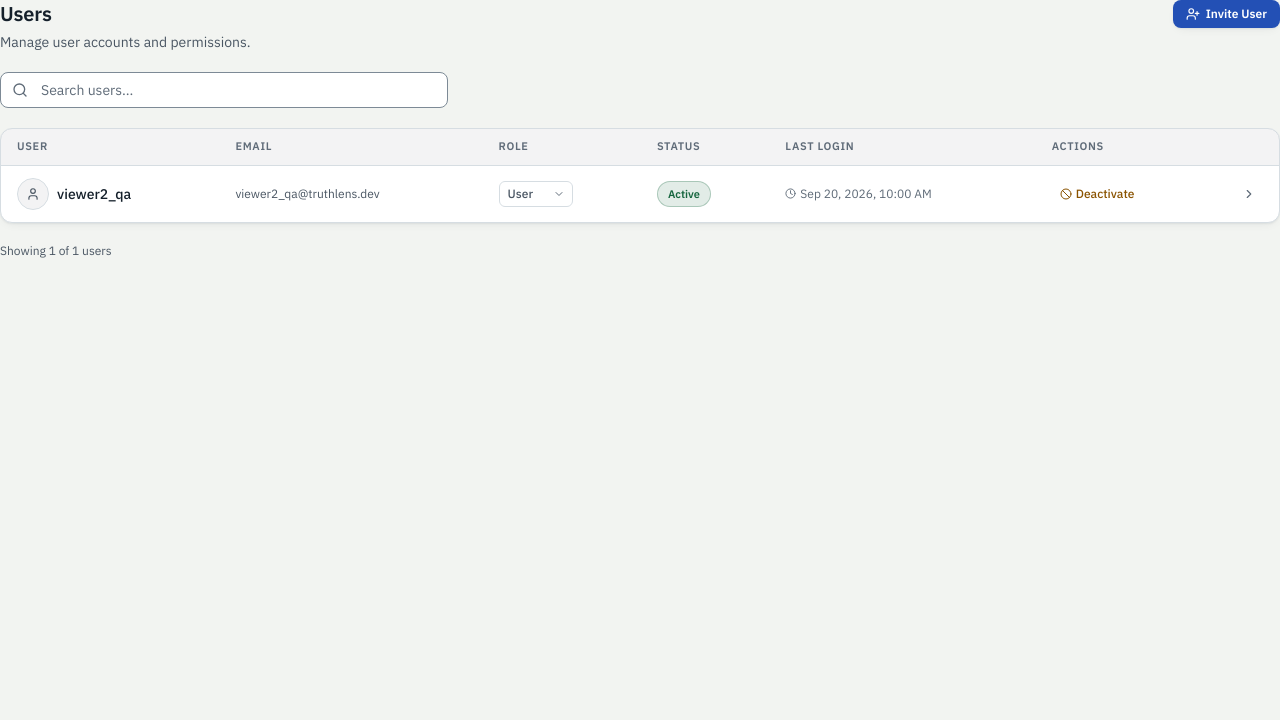
Test case: AdminUsersPage — role/status confirmation (BUG-39) › cancelling the role-change dialog leaves the role unchanged
Step 1. Select "Admin" in the dropdown named "Change user role" → (536, 194), box [499, 181, 573, 207]
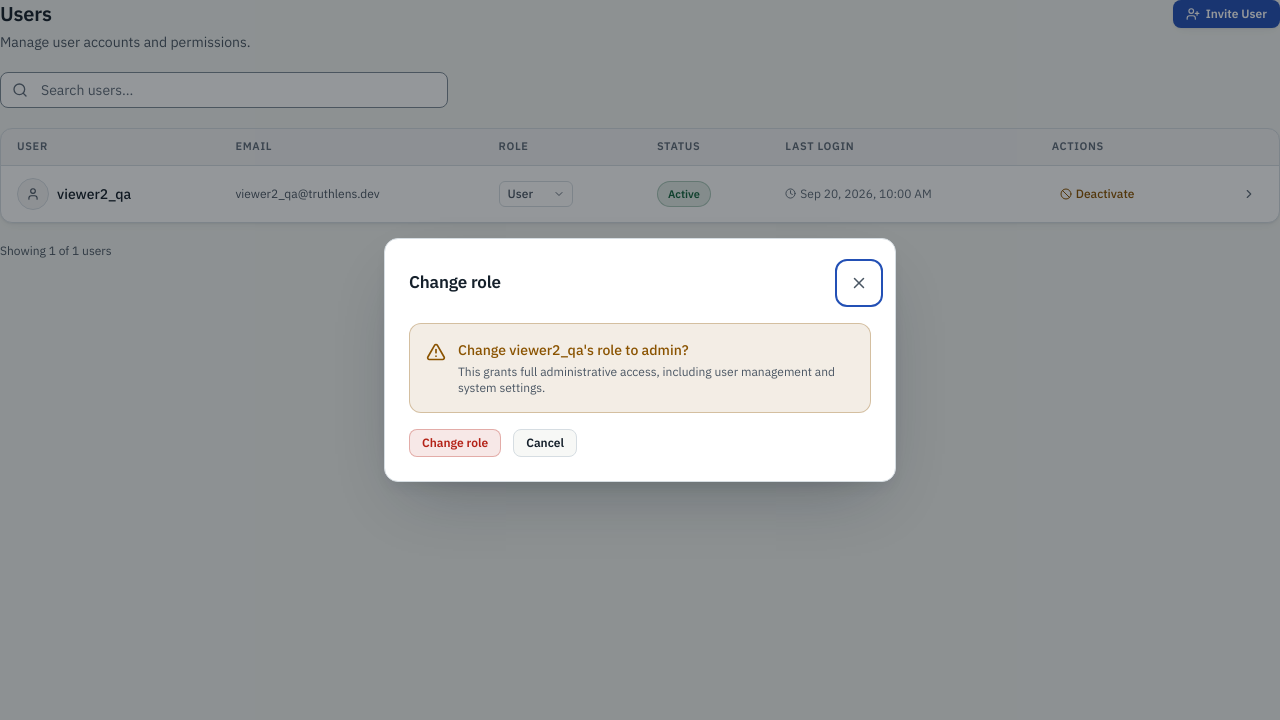
Step 2. Click the button "Cancel" → (545, 443), box [513, 429, 577, 457]
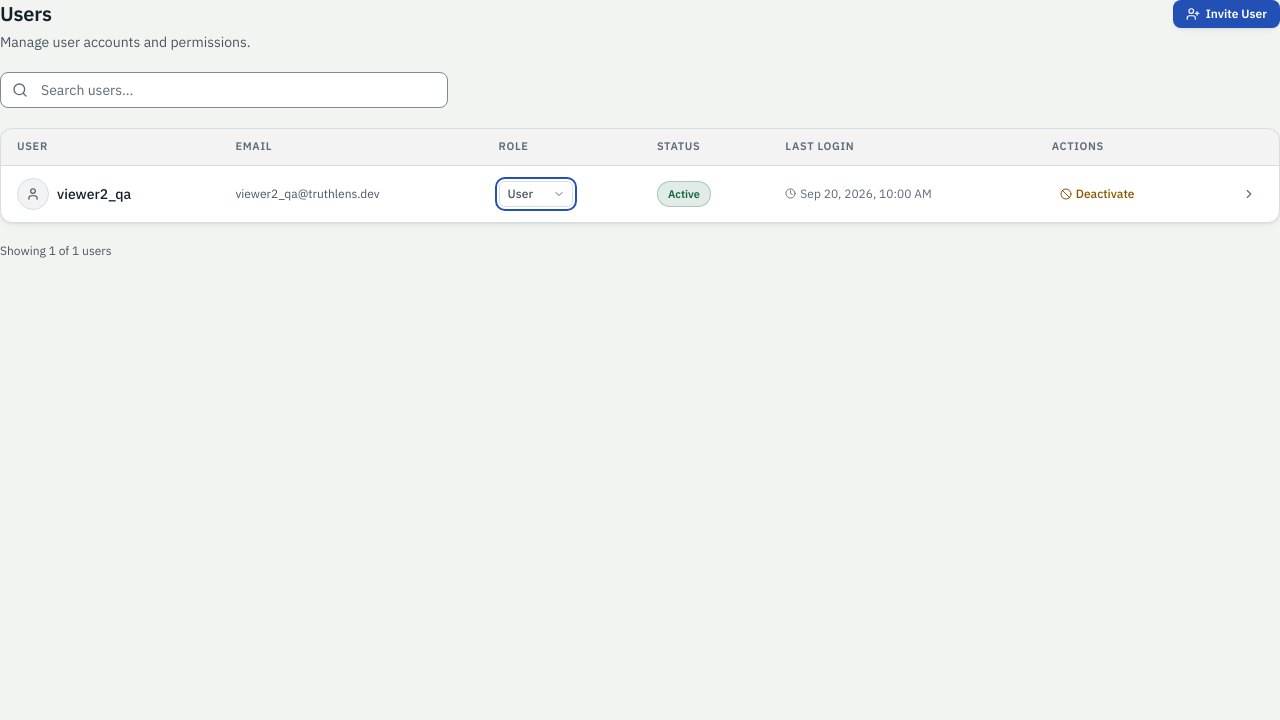
Expected: the dialog is gone
